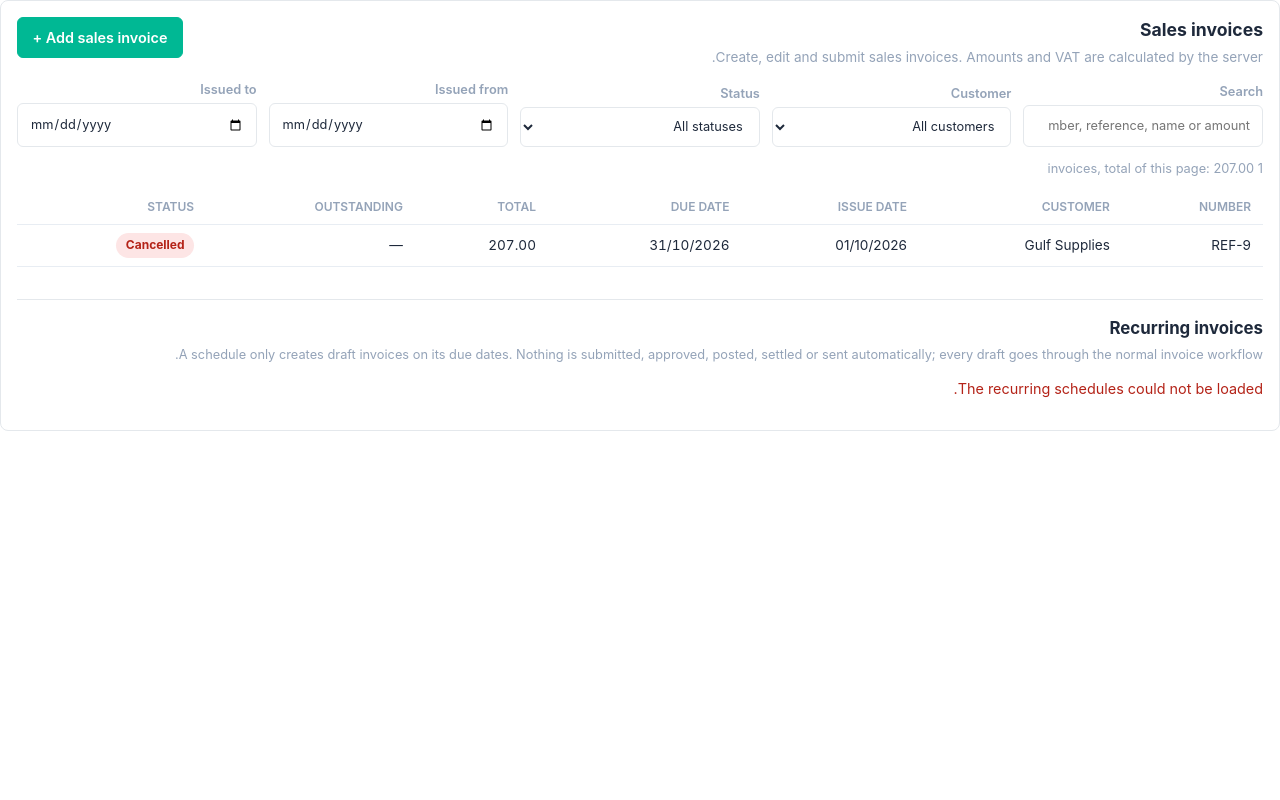
Invoice details dialog layout › shows the summary header and the three sections for a cancelled invoice
Click the text "REF-9" at (1192, 245), box x1=1122 y1=225 x2=1263 y2=266
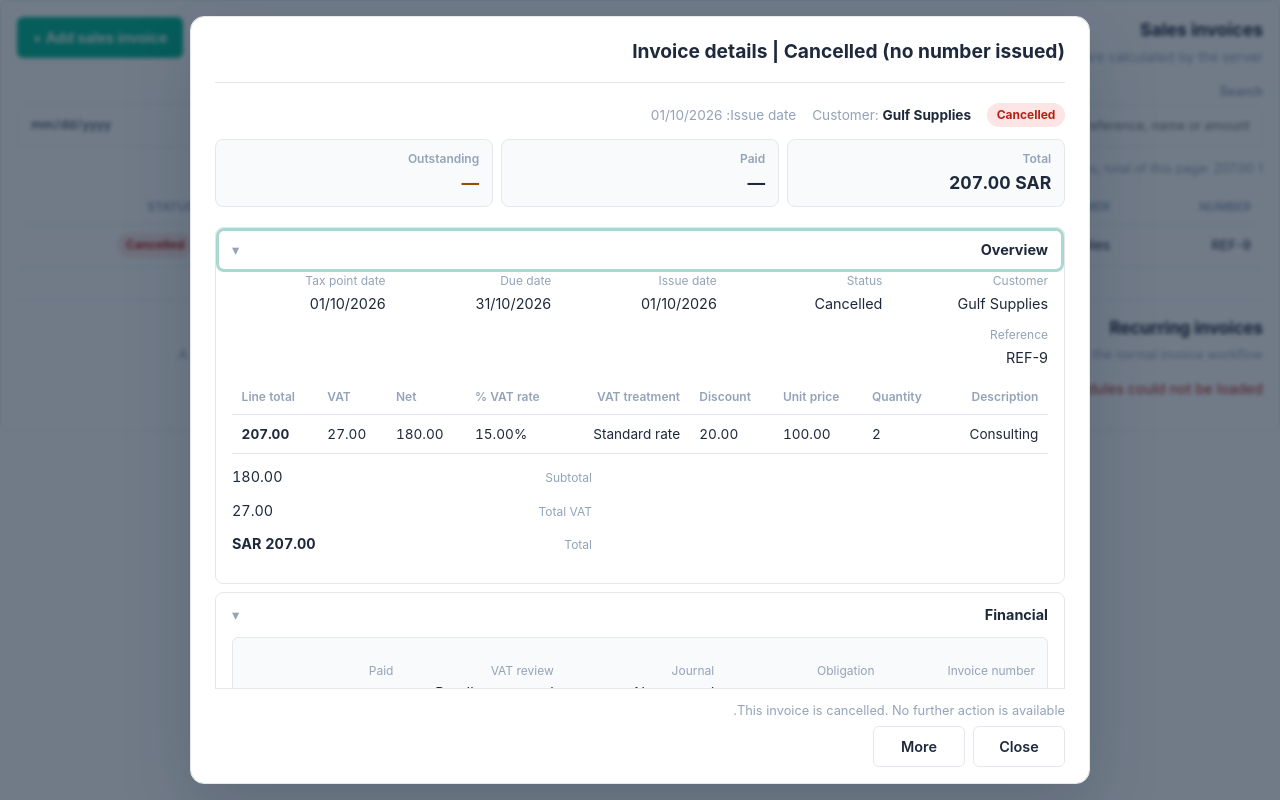
expect the element named "Invoice summary" shows "Cancelled": met, box x1=997 y1=107 x2=1056 y2=122
expect the element named "Invoice summary" shows "Gulf Supplies": met, box x1=882 y1=107 x2=971 y2=123
expect the element named "Invoice summary" shows "01/10/2026": met, box x1=651 y1=107 x2=722 y2=123
